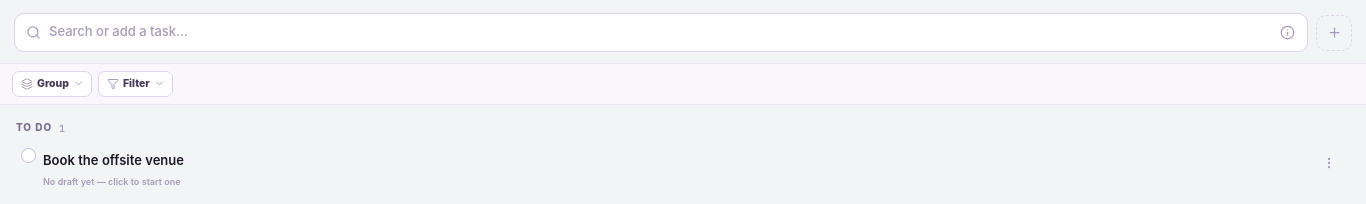
Scenario: TodoRail undrafted row › still renames from the title — the click that loads is the one elsewhere
Step 1. Click the button titled "Click to rename" → (114, 161), box [43, 152, 184, 170]
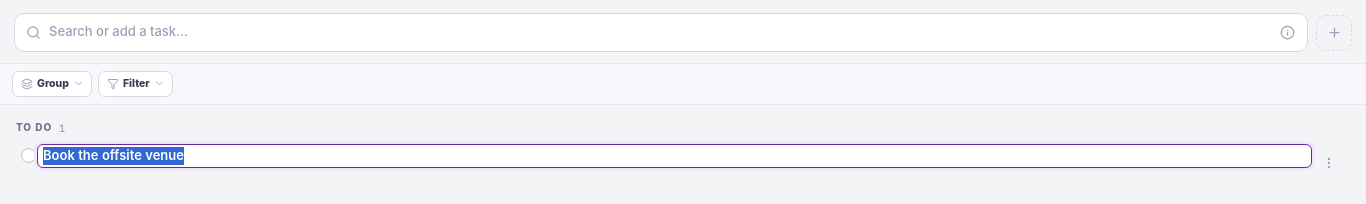
Expected: the field named "Task title" holds "Book the offsite venue", [37, 144, 1312, 168]
